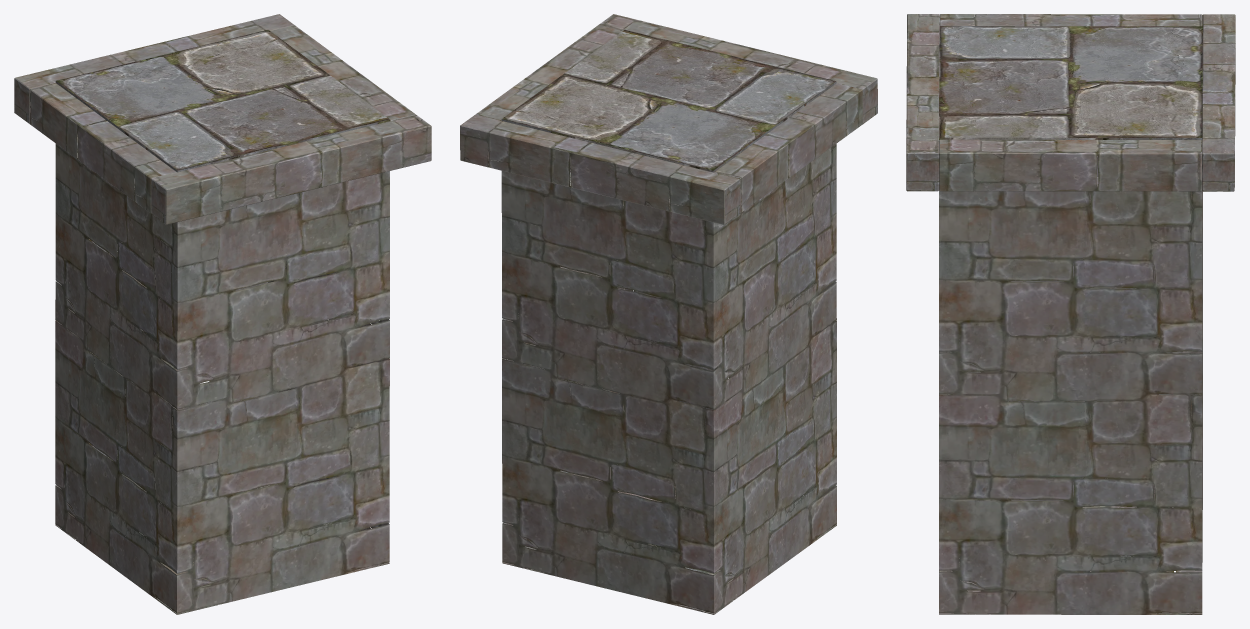
3 renders of one model, left to right at view 1: azimuth 30°, elevation 25°; view 2: azimuth 150°, elevation 25°; view 3: azimuth 270°, elevation 25°, orthographic. The views are drawn at different scales.
Parts seen in each view (by area): view 1: SM_BB_T3_Foundation_Med_LOD0; view 2: SM_BB_T3_Foundation_Med_LOD0; view 3: SM_BB_T3_Foundation_Med_LOD0.
Boxes of the visible parts, x1,y1,x2,y2 form: SM_BB_T3_Foundation_Med_LOD0: (14, 14, 431, 614); SM_BB_T3_Foundation_Med_LOD0: (460, 14, 877, 614); SM_BB_T3_Foundation_Med_LOD0: (906, 14, 1235, 614).
Size of the model in its own units: 1.88 by 3 by 1.88.
Materials: 2 (2 with a texture image).
